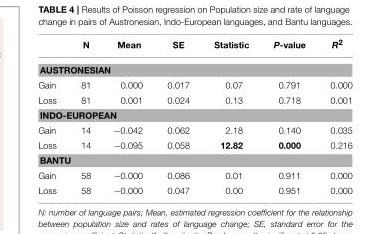table: (37, 37, 351, 194)
table column: (201, 37, 260, 194), (260, 37, 317, 194), (101, 37, 154, 194), (154, 37, 201, 194), (317, 37, 351, 194), (68, 37, 101, 194), (37, 37, 68, 194)
table column header: (37, 37, 351, 57)
table projected row header: (37, 57, 351, 77), (37, 107, 351, 122), (37, 152, 351, 167)
table row: (37, 37, 351, 57), (37, 57, 351, 77), (37, 77, 351, 92), (37, 92, 351, 107), (37, 107, 351, 122), (37, 122, 351, 137), (37, 137, 351, 152), (37, 152, 351, 167), (37, 167, 351, 182), (37, 182, 351, 194)
